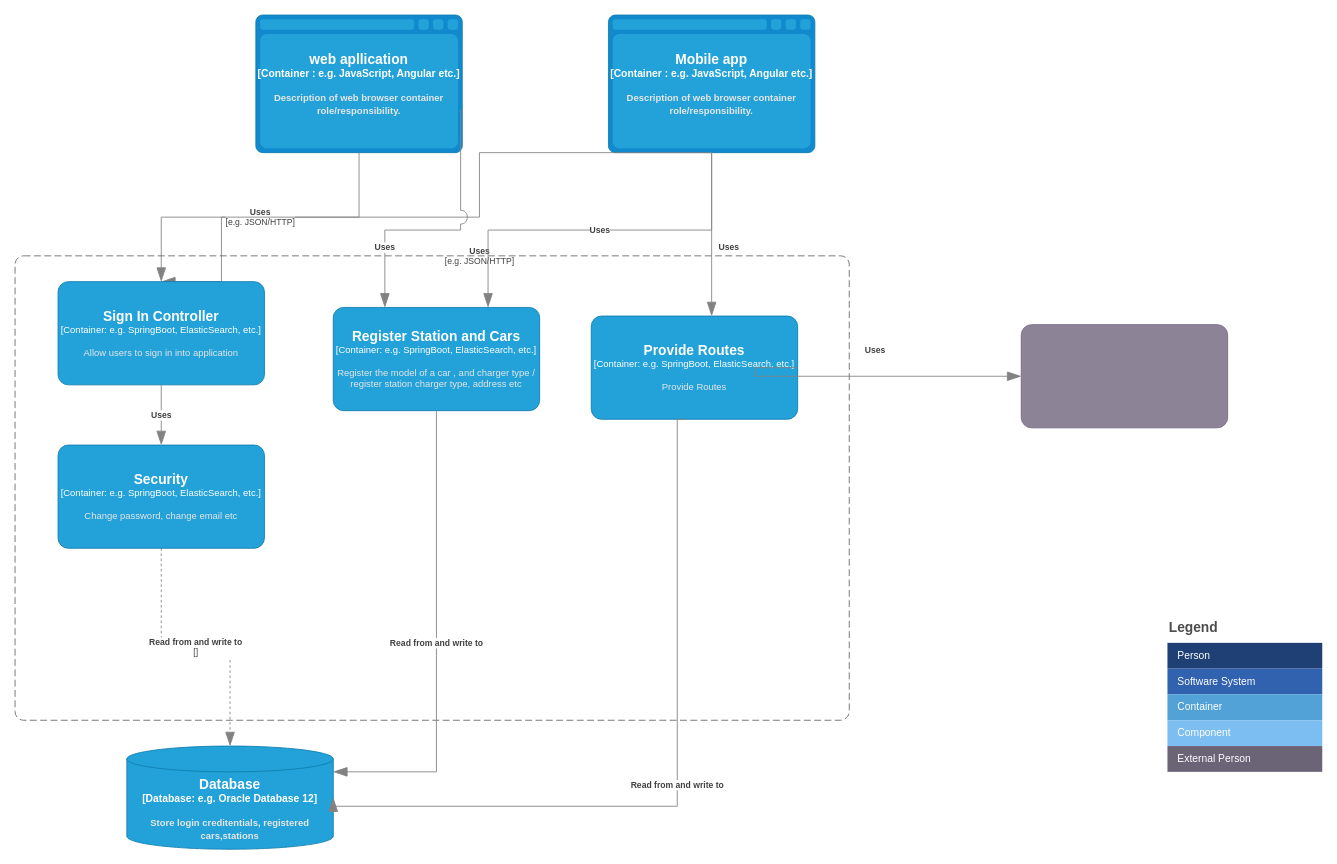
Some shapes in this 1337 by 864 pixel diagram are drawn without their labels. Here are the shapes that lost their labels. From the top down, the box of each, then its label:
(1020, 324, 1228, 428): API Harti [Software System] Google Maps API
(14, 255, 849, 720): API Application [Container]
